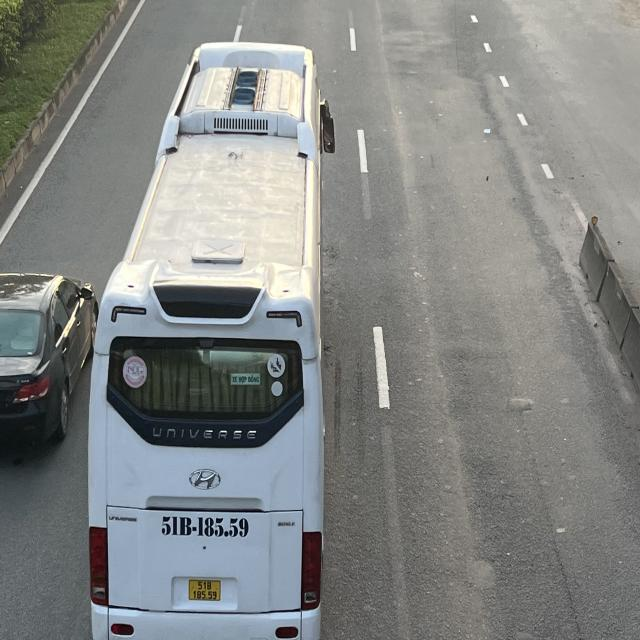car: (0, 267, 92, 447)
coach: (86, 40, 338, 639)
